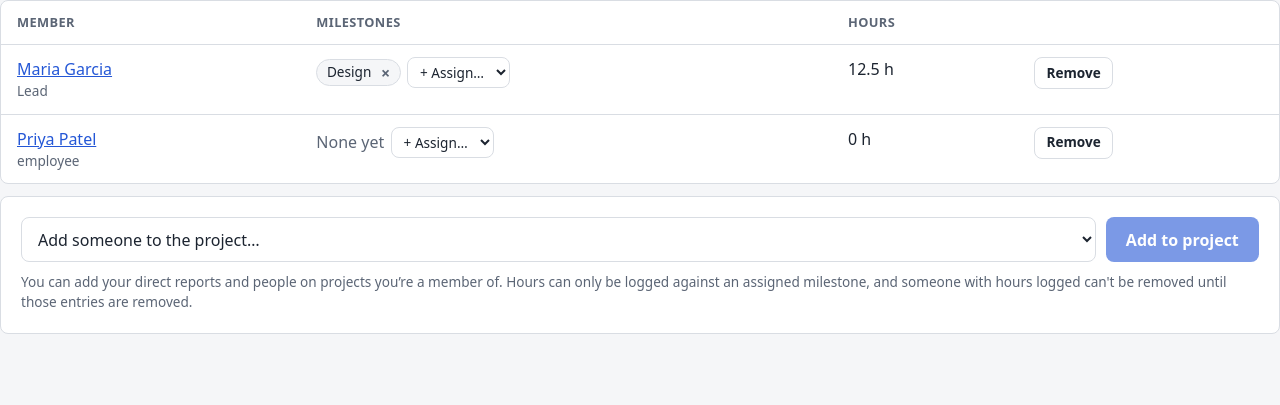
Test: TeamManager assign and unassign › assigns a member to a milestone from the select
Select "Design" in the dropdown named "Assign Priya Patel to a milestone": (442, 142) top-left (391, 127), bottom-right (494, 158)
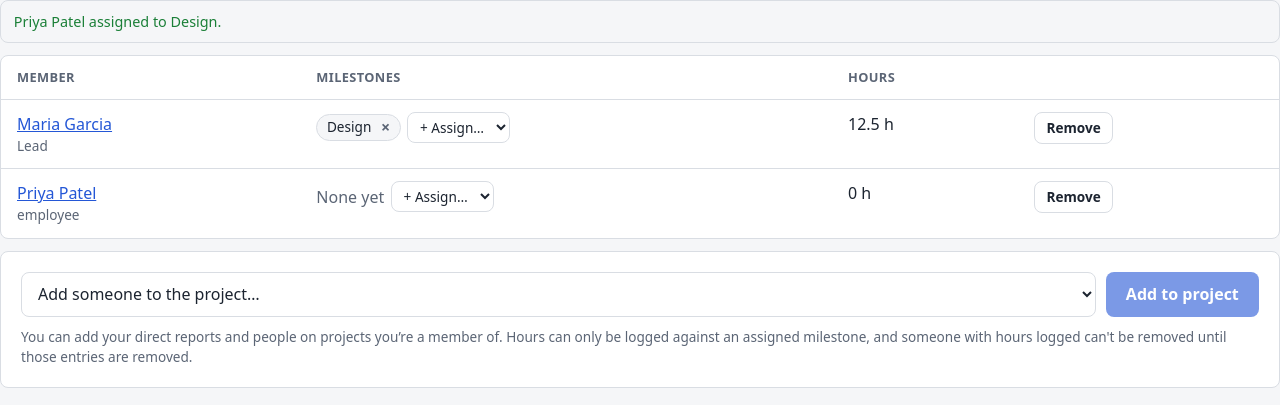
Expected: the message reads "Priya Patel assigned to Design.", top-left (14, 12), bottom-right (221, 31)
